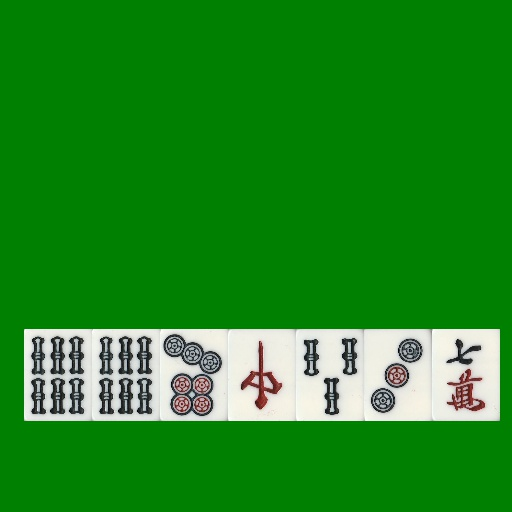3p: (364, 329, 432, 421)
3s: (296, 329, 364, 421)
6s: (24, 329, 92, 421), (92, 329, 160, 421)
7m: (432, 329, 500, 421)
7p: (160, 329, 228, 421)
tyun: (228, 329, 296, 421)
